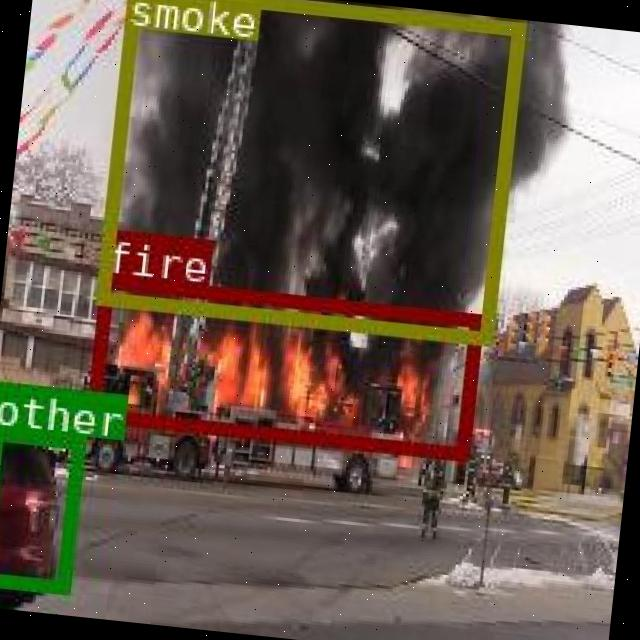fire: (83, 274, 480, 457)
smoke: (94, 0, 522, 343)
